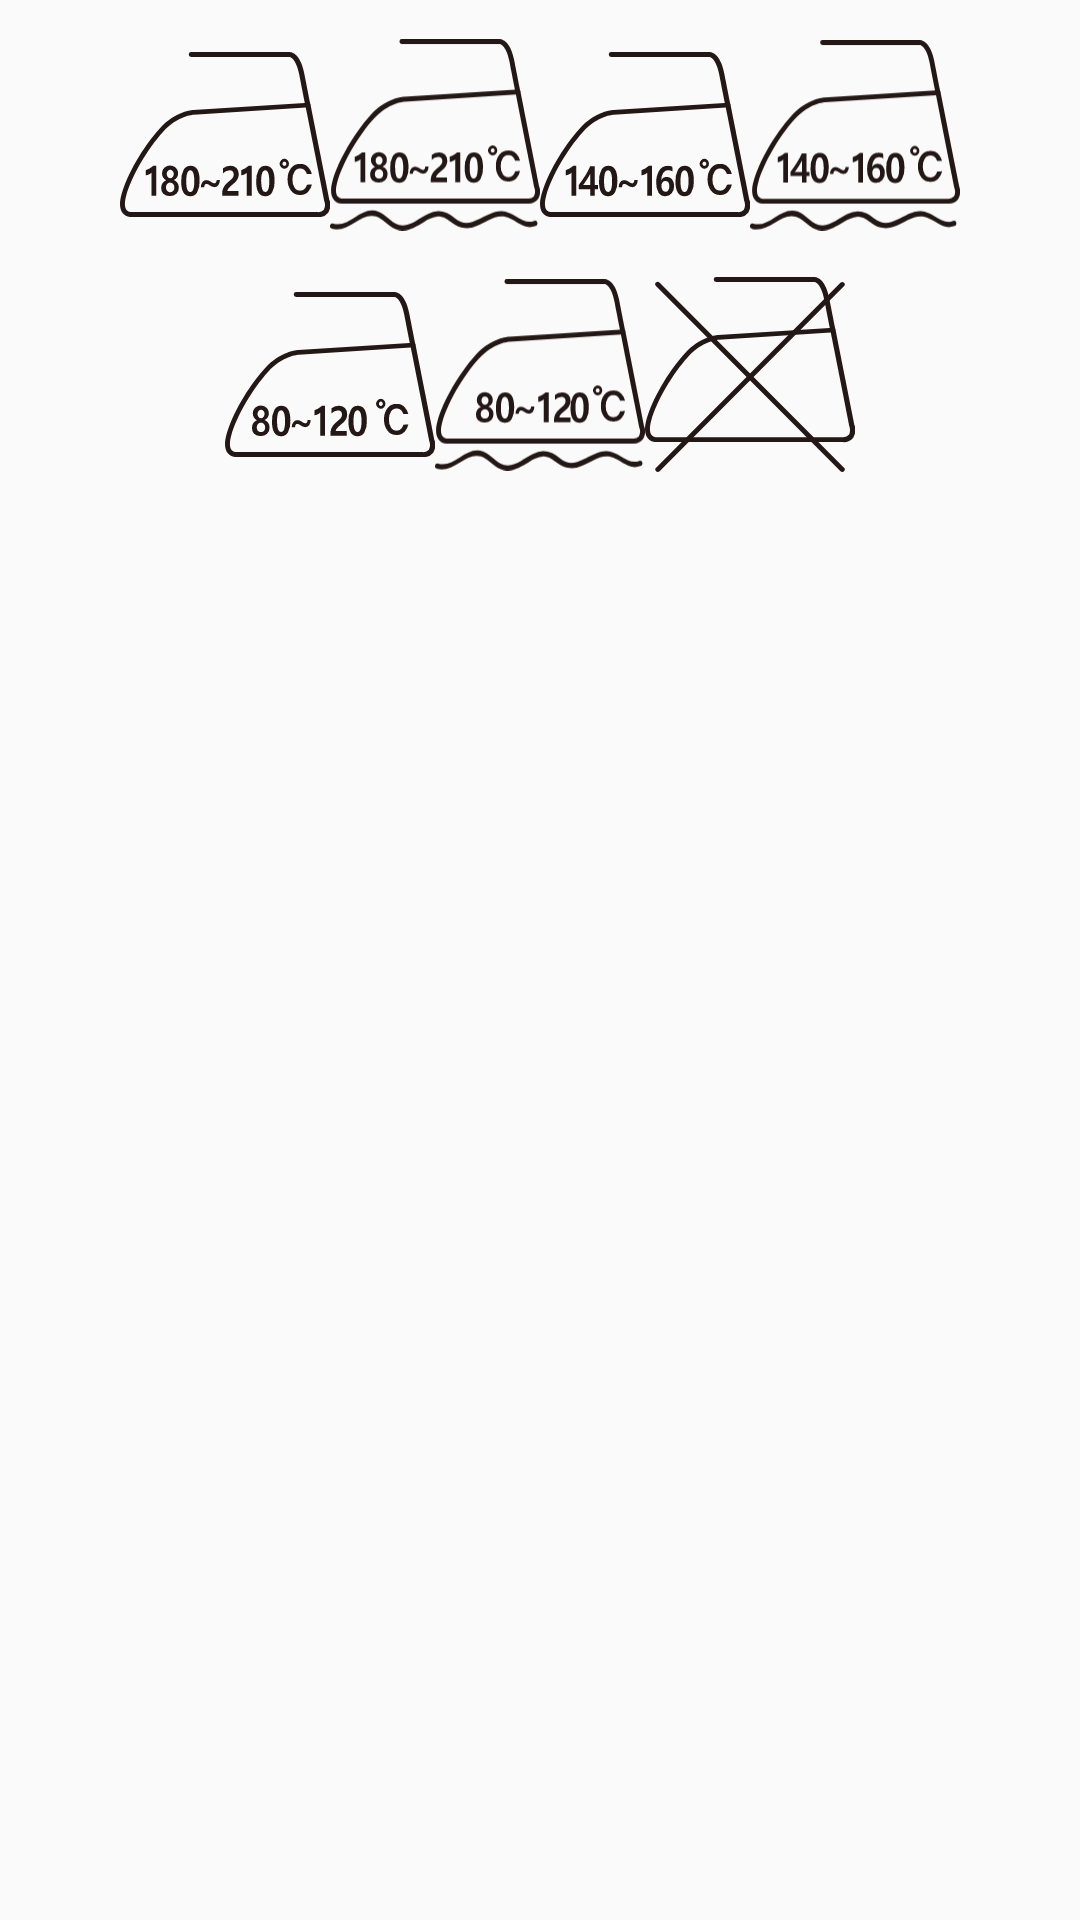

Icon click points for this 1080x1920 phone screenshot, format (x=x, y=y):
iron ht: (x=225, y=134)
iron ht with: (x=435, y=135)
iron lt: (x=330, y=374)
iron lt with: (x=540, y=375)
iron mt: (x=645, y=134)
iron mt with: (x=855, y=135)
iron not: (x=750, y=374)
